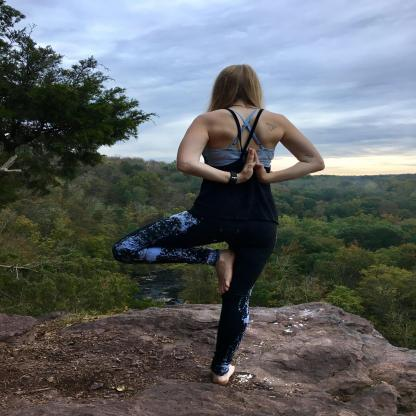tree: (100, 56, 340, 393)
